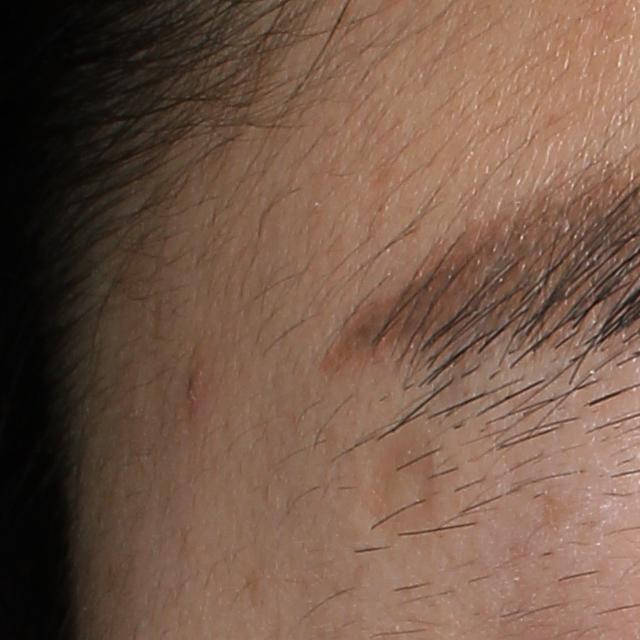papule: (180, 368, 205, 413)
